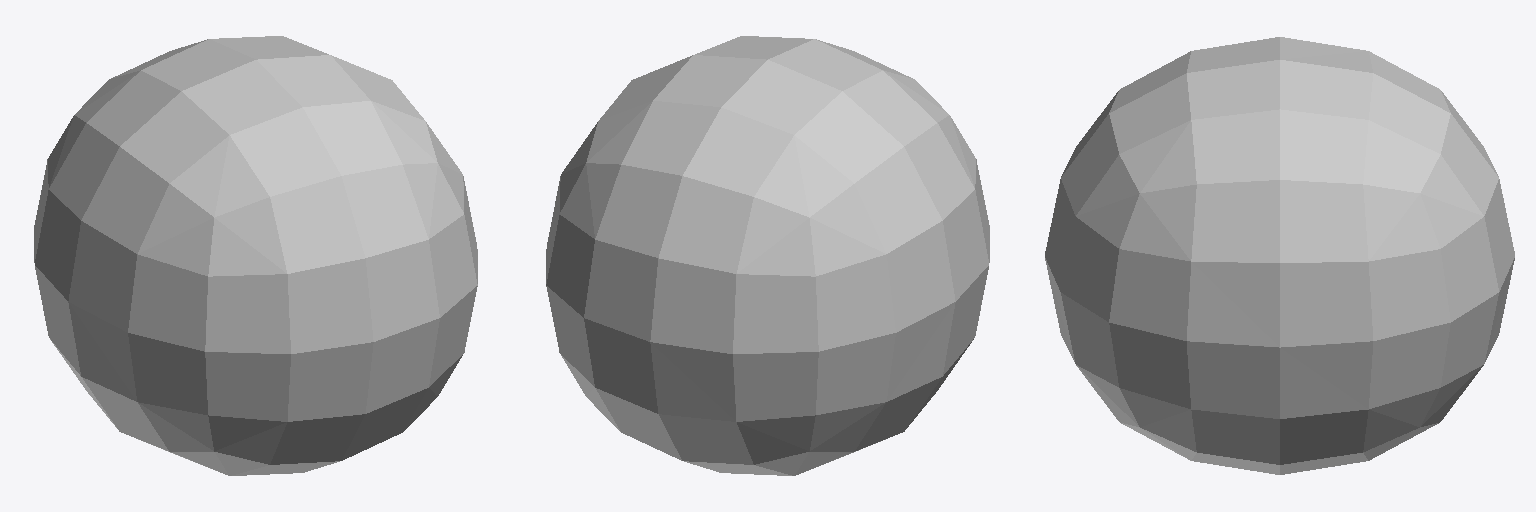
File: CuboTextured.obj
3 renders of one model, left to right at view 1: azimuth 30°, elevation 25°; view 2: azimuth 150°, elevation 25°; view 3: azimuth 270°, elevation 25°, orthographic.
Parts seen in each view (by area): view 1: Cube; view 2: Cube; view 3: Cube.
Part boxes in pixels (bbox=[...]): Cube: bbox=[34, 36, 477, 475]; Cube: bbox=[546, 36, 989, 475]; Cube: bbox=[1045, 37, 1514, 474].
Bounding box in the file's own units: 1.68 × 1.68 × 1.82.